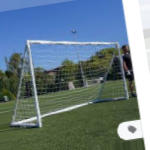goals: (10, 38, 129, 127)
